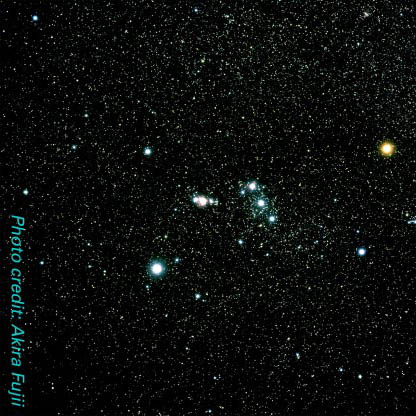Orion: (139, 252, 175, 285), (352, 237, 382, 266), (374, 134, 402, 164), (250, 193, 274, 211), (139, 142, 158, 162), (244, 174, 265, 192), (259, 215, 281, 229)
